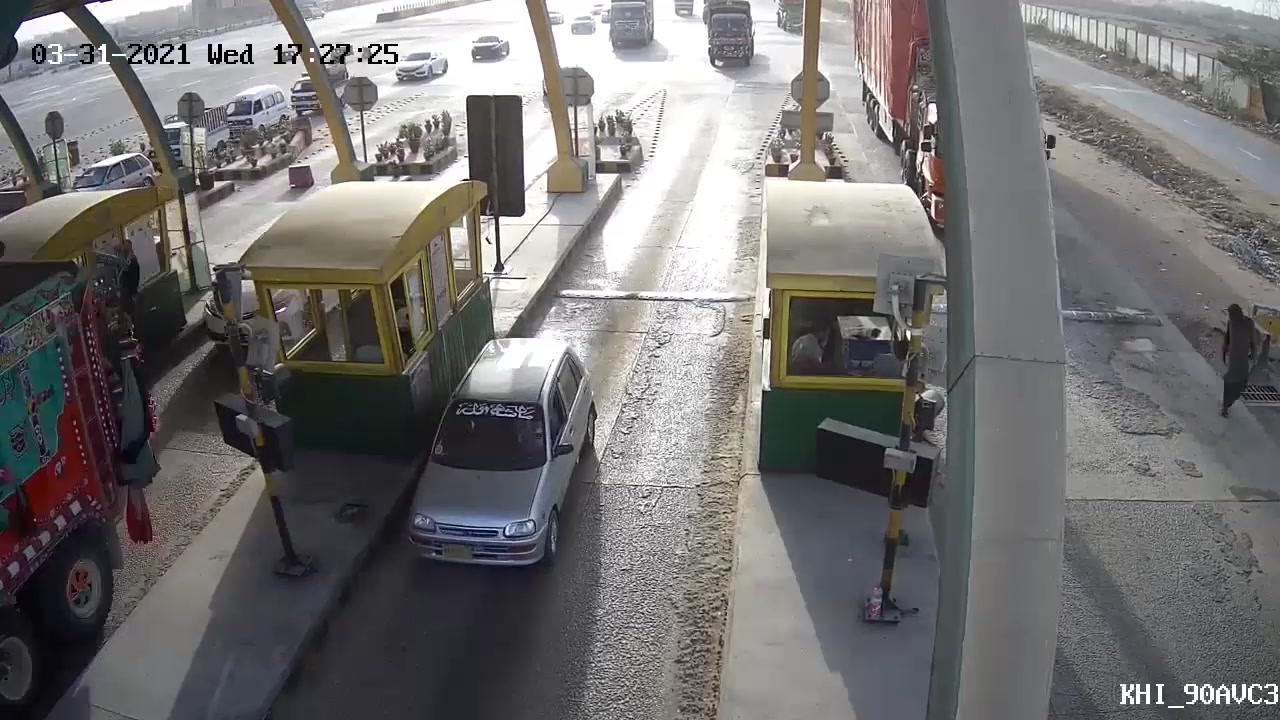F1: (400, 333, 599, 582)
